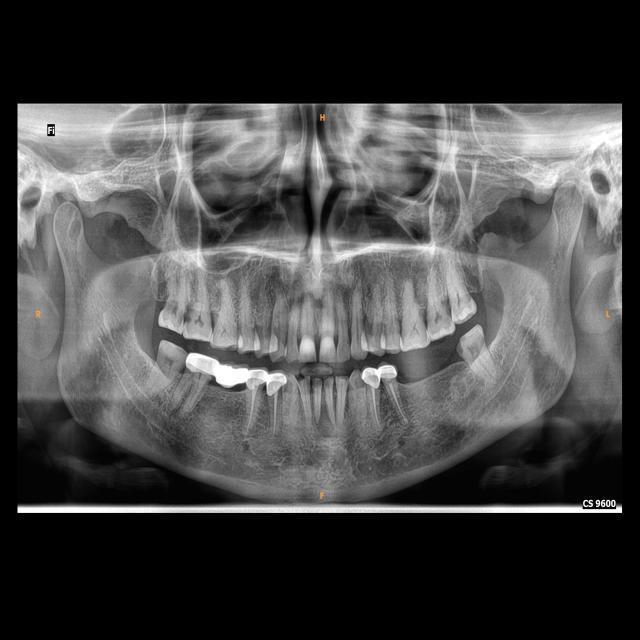dentin-curugu: (364, 314, 380, 342), (184, 300, 198, 326), (453, 338, 469, 356)
kanal-tedavisi: (386, 384, 407, 421), (267, 390, 280, 436), (246, 389, 258, 433), (369, 386, 382, 425)
kaplama: (184, 348, 218, 377), (244, 367, 268, 390), (264, 369, 286, 394), (362, 365, 380, 389), (377, 362, 398, 380)
kopru: (207, 360, 253, 396)
